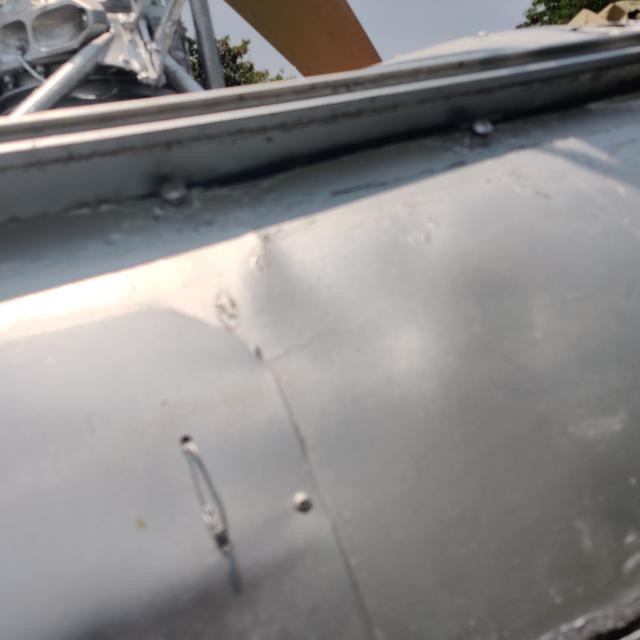dent: (203, 198, 435, 406)
